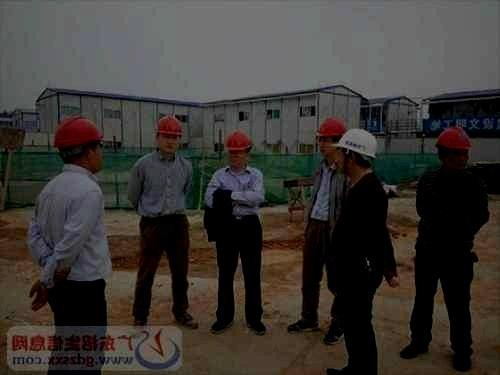helmet: (53, 114, 105, 172), (331, 126, 378, 175), (434, 125, 473, 172), (315, 114, 347, 155), (153, 114, 184, 154), (223, 128, 253, 168)
